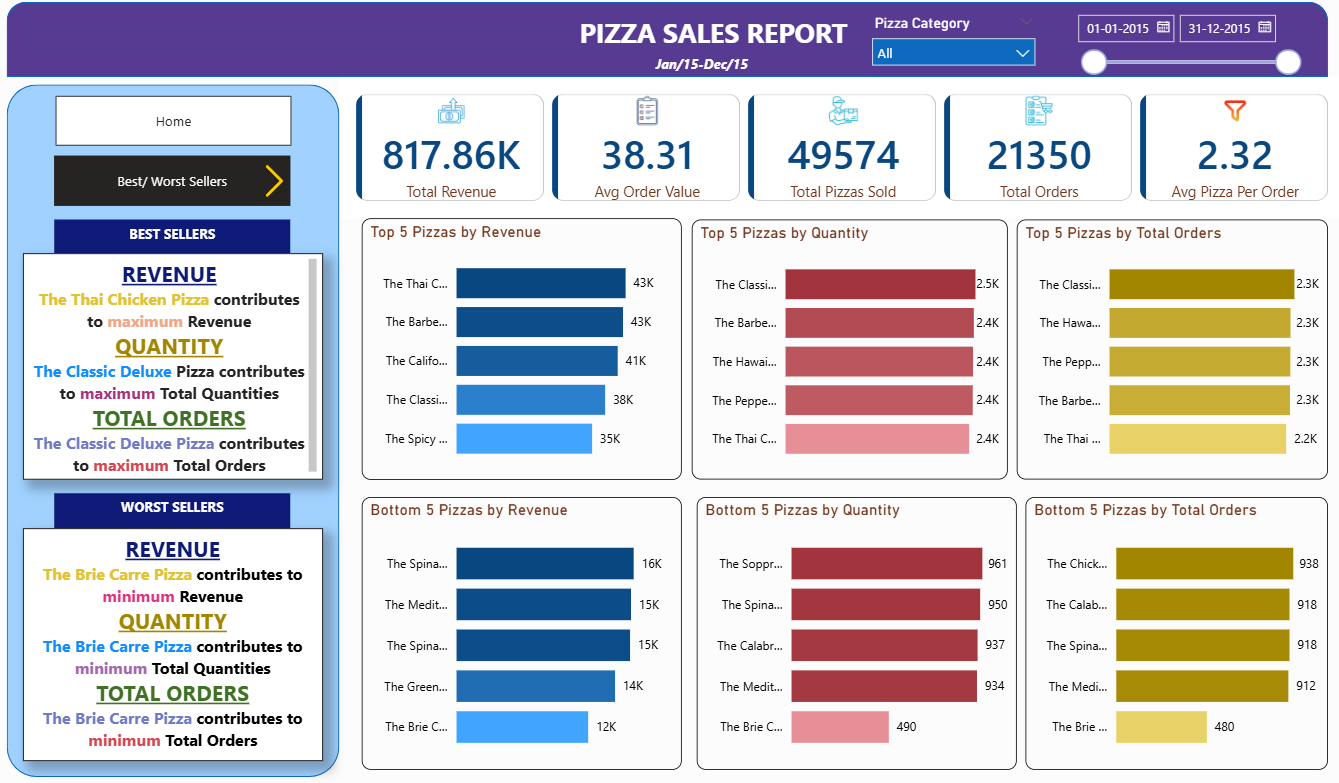

Layout of this report page (visuals, bound fields, positions):
{"tool":"powerbi","page":{"name":"Best/ Worst Sellers","canvas":[1360,820],"ordinal":1},"visuals":[{"type":"cardVisual","fields":{"Data":["pizza_sales.Total Revenue","pizza_sales.Avg Order Value","pizza_sales.Total Pizzas Sold","pizza_sales.Total Orders","pizza_sales.Avg Pizza Per Order"]},"box":[351.2,85,1008.8,141.2],"z":0},{"type":"shape","box":[18.8,10,1321.2,75],"z":1000},{"type":"textbox","box":[583.1,16.9,285.7,54.5],"z":2000},{"type":"textbox","box":[662,57,120.3,27.8],"z":3000},{"type":"shape","box":[18.8,92.5,332.5,692.5],"z":4000},{"type":"textbox","box":[66.2,227.5,236.2,33.8],"z":5000},{"type":"textbox","box":[35,261.2,300,226.2],"z":6000},{"type":"textbox","box":[66.2,501.2,236.2,35],"z":7000},{"type":"textbox","box":[35,536.2,300,232.5],"z":8000},{"type":"slicer","fields":{"Values":["pizza_sales.pizza_category"]},"box":[873.8,17.5,183.8,66.2],"z":9000},{"type":"slicer","fields":{"Values":["pizza_sales.order_date"]},"box":[1077.5,12.5,243.8,91.2],"z":10000},{"type":"barChart","title":"Top 5 Pizzas by Revenue","fields":{"Category":["pizza_sales.pizza_name"],"Y":["pizza_sales.Total Revenue"]},"box":[373.8,226.2,320,261.2],"z":11000},{"type":"barChart","title":"Top 5 Pizzas by Total Orders","fields":{"Category":["pizza_sales.pizza_name"],"Y":["pizza_sales.Total Orders"]},"box":[1028.8,227.5,311.2,260],"z":12000},{"type":"barChart","title":"Top 5 Pizzas by Quantity","fields":{"Category":["pizza_sales.pizza_name"],"Y":["pizza_sales.Total Pizzas Sold"]},"box":[703.8,227.5,316.2,260],"z":13000},{"type":"barChart","title":"Bottom 5 Pizzas by Total Orders","fields":{"Category":["pizza_sales.pizza_name"],"Y":["pizza_sales.Total Orders"]},"box":[1037.5,505,302.5,272.5],"z":14000},{"type":"barChart","title":"Bottom 5 Pizzas by Quantity","fields":{"Category":["pizza_sales.pizza_name"],"Y":["pizza_sales.Total Pizzas Sold"]},"box":[708.8,505,320,272.5],"z":15000},{"type":"barChart","title":"Bottom 5 Pizzas by Revenue","fields":{"Category":["pizza_sales.pizza_name"],"Y":["pizza_sales.Total Revenue"]},"box":[373.8,505,320,272.5],"z":16000},{"type":"pageNavigator","box":[66.2,163.8,236.2,50],"z":17000},{"type":"pageNavigator","box":[67.5,103.8,236.2,50],"z":18000},{"type":"image","box":[270,172.5,32.5,32.5],"z":19000}]}

Visuals, with their boxes on the page's 1360x820 design canvas (x1, y1, x2, y2). These are canvas units, not pixel positions in the 1339x783 screenshot, which may show the page scaled, cropped or inside an application window:
cardVisual - pizza_sales.Total Revenue x pizza_sales.Avg Order Value: [351,85,1360,226]
shape: [19,10,1340,85]
textbox: [583,17,869,71]
textbox: [662,57,782,85]
shape: [19,92,351,785]
textbox: [66,228,302,261]
textbox: [35,261,335,487]
textbox: [66,501,302,536]
textbox: [35,536,335,769]
slicer - pizza_sales.pizza_category: [874,18,1058,84]
slicer - pizza_sales.order_date: [1078,12,1321,104]
"Top 5 Pizzas by Revenue" barChart: [374,226,694,487]
"Top 5 Pizzas by Total Orders" barChart: [1029,228,1340,488]
"Top 5 Pizzas by Quantity" barChart: [704,228,1020,488]
"Bottom 5 Pizzas by Total Orders" barChart: [1038,505,1340,778]
"Bottom 5 Pizzas by Quantity" barChart: [709,505,1029,778]
"Bottom 5 Pizzas by Revenue" barChart: [374,505,694,778]
pageNavigator: [66,164,302,214]
pageNavigator: [68,104,304,154]
image: [270,172,302,205]
